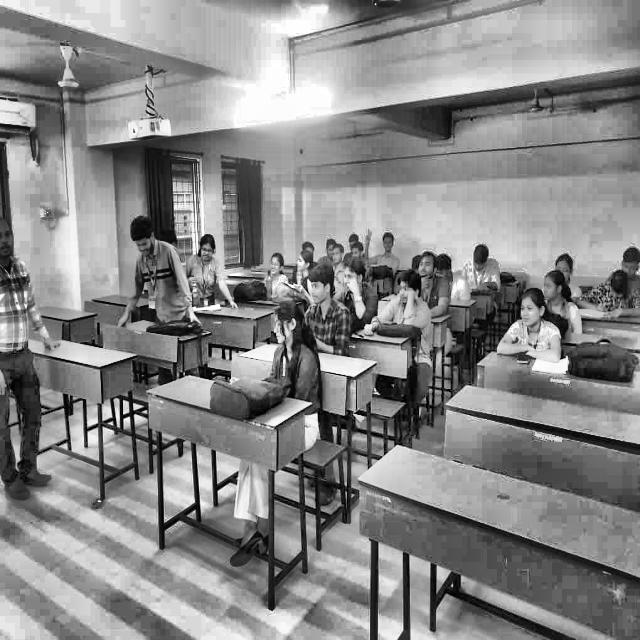Focus: (269, 292, 317, 389), (344, 261, 428, 313), (595, 224, 640, 318), (510, 280, 570, 336), (0, 212, 35, 300), (529, 254, 582, 306), (306, 255, 344, 309), (410, 240, 444, 290)
Not Focus: (121, 204, 184, 272), (245, 239, 328, 279), (318, 207, 370, 267), (370, 225, 409, 282), (187, 218, 215, 268)
